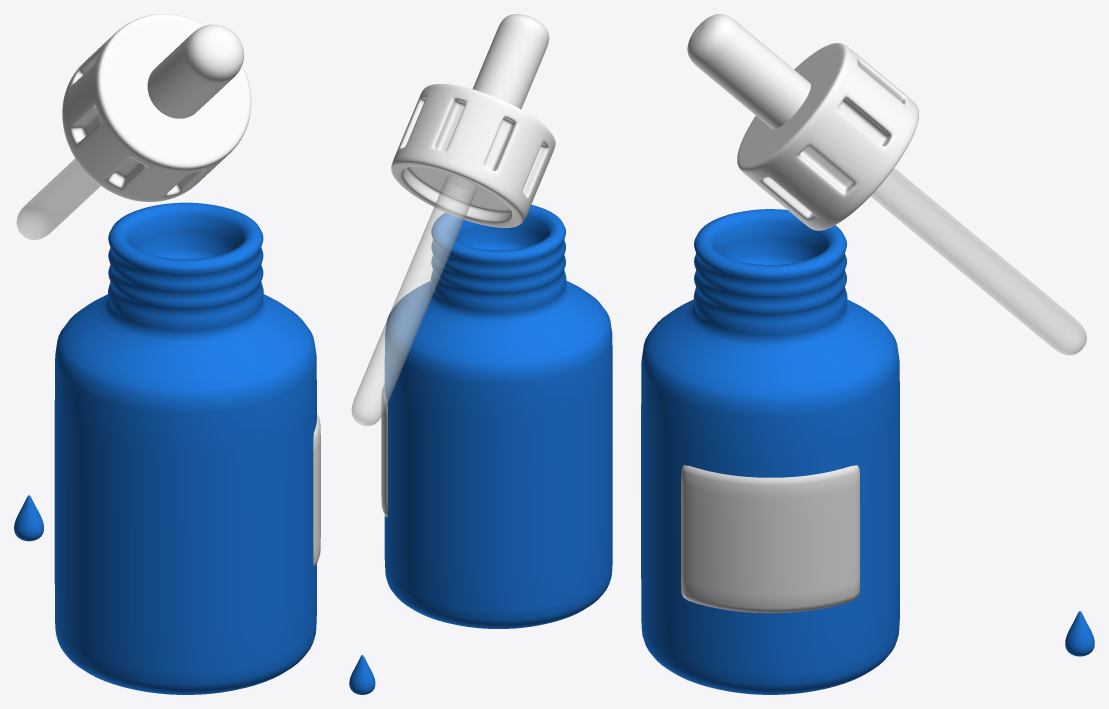
File: serum-dropper-3d-animated-icon-1292021053963.glb
3 views of the same model, side by side, from view 1: azimuth 30°, elevation 25°; view 2: azimuth 150°, elevation 25°; view 3: azimuth 270°, elevation 25° (orthographic). The views are drawn at different scales.
Visible parts, largest first — view 1: Cylinder.004, Cylinder.006, Cylinder.008, Cylinder.007, Cylinder.005, Cylinder.009; view 2: Cylinder.004, Cylinder.006, Cylinder.007, Cylinder.008, Cylinder.005, Cylinder.009; view 3: Cylinder.004, Cylinder.005, Cylinder.006, Cylinder.007, Cylinder.008, Cylinder.009.
Boxes of the visible parts, x1,y1,x2,y2 form: Cylinder.004: [54, 202, 316, 694]; Cylinder.006: [62, 14, 251, 201]; Cylinder.008: [147, 24, 243, 118]; Cylinder.007: [16, 158, 100, 239]; Cylinder.005: [313, 413, 320, 566]; Cylinder.009: [14, 495, 43, 541]; Cylinder.004: [384, 204, 612, 628]; Cylinder.006: [391, 84, 555, 227]; Cylinder.007: [351, 176, 476, 425]; Cylinder.008: [473, 14, 549, 108]; Cylinder.005: [381, 384, 387, 517]; Cylinder.009: [349, 655, 375, 694]; Cylinder.004: [641, 209, 899, 694]; Cylinder.005: [681, 465, 859, 613]; Cylinder.006: [737, 43, 918, 230]; Cylinder.007: [871, 168, 1086, 355]; Cylinder.008: [687, 14, 810, 129]; Cylinder.009: [1065, 611, 1094, 656].
Size of the model in its own units: 2.02 by 5.4 by 3.48.
